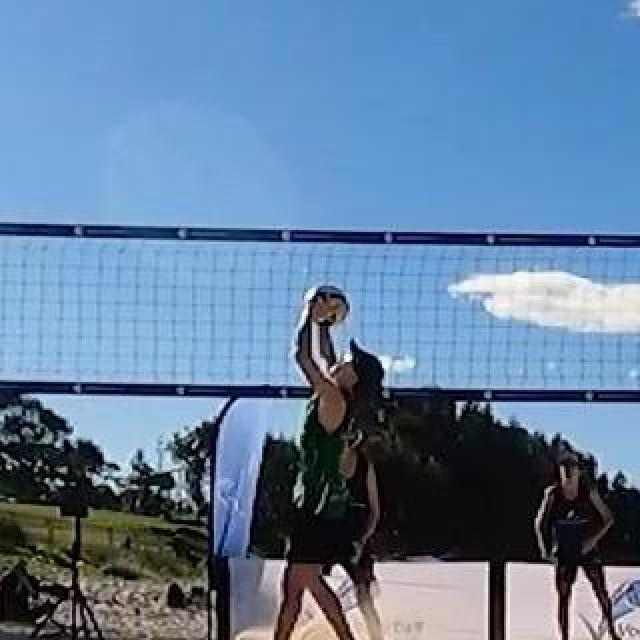volleyball: (304, 286, 344, 326)
